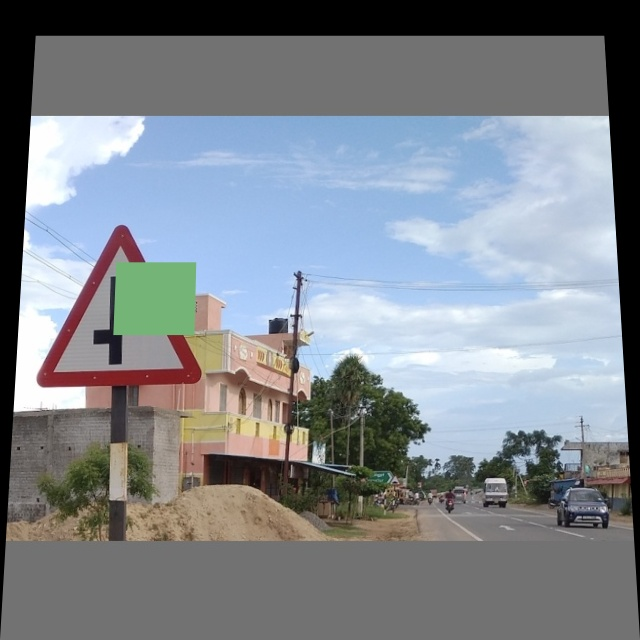Staggered_Intersection: (39, 218, 215, 389)
